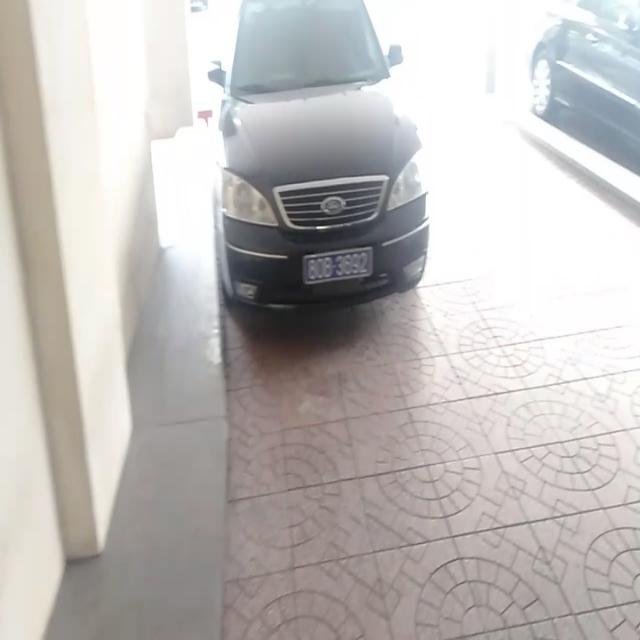bien_xanh: (299, 246, 376, 284)
